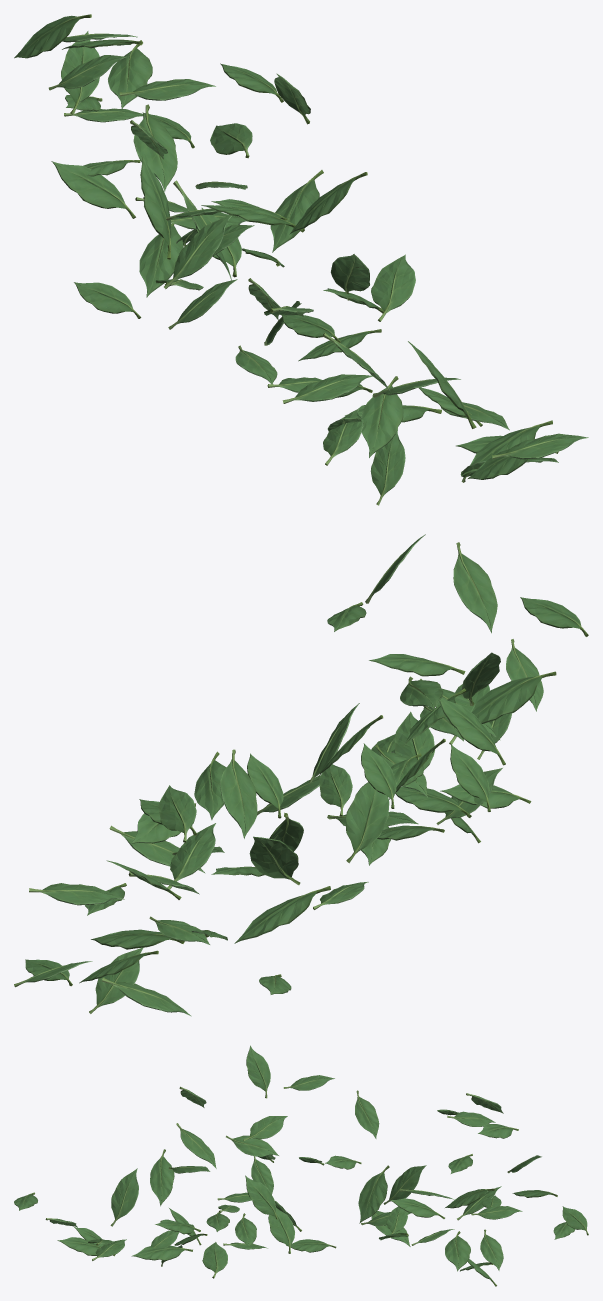
The model's file is holy_canopy12_complete.glb.
The picture shows the model from 3 angles, top to bottom: view 1: azimuth 30°, elevation 25°; view 2: azimuth 150°, elevation 25°; view 3: azimuth 270°, elevation 25°; orthographic projection. The views are drawn at different scales.
Parts seen in each view (by area): view 1: holy_canopy12; view 2: holy_canopy12; view 3: holy_canopy12.
Part boxes in pixels (left/top/right/bottom): holy_canopy12: left=14, top=14, right=588, bottom=505; holy_canopy12: left=14, top=534, right=588, bottom=1016; holy_canopy12: left=14, top=1045, right=588, bottom=1286.
Size of the model in its own units: 8.28 by 10.63 by 25.76.
1 material, 1 textured.
